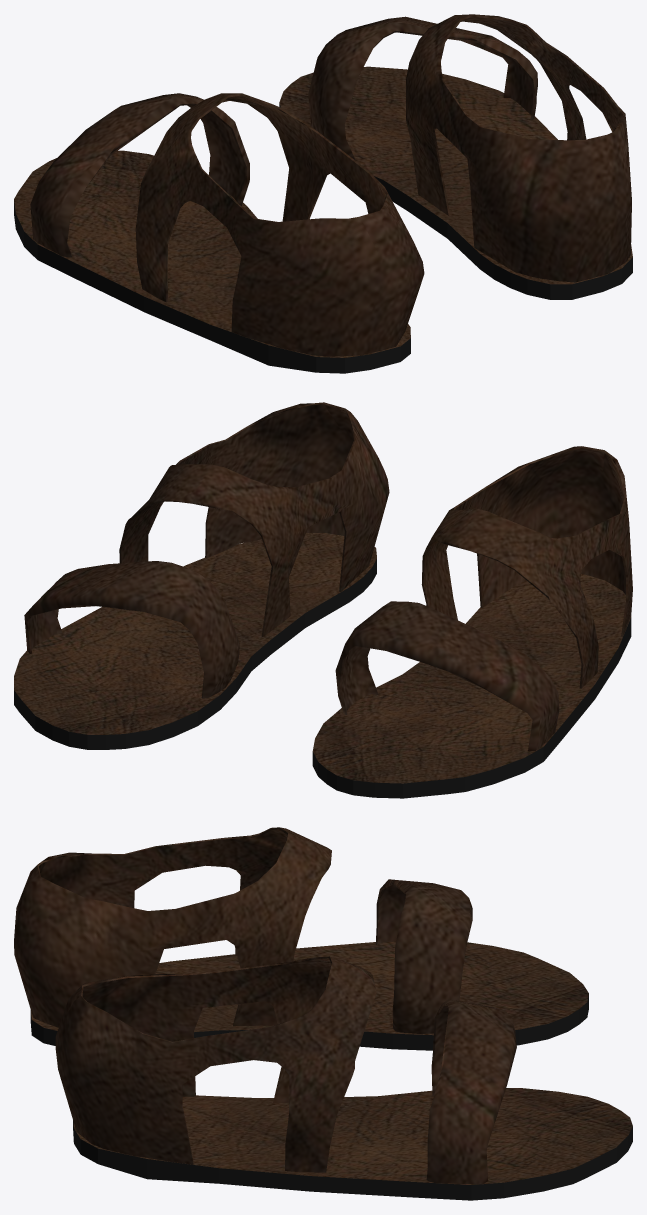
File: Sandals 2.FBX
3 renders of one model, top to bottom at view 1: azimuth 30°, elevation 25°; view 2: azimuth 150°, elevation 25°; view 3: azimuth 270°, elevation 25°, orthographic. The views are drawn at different scales.
Parts seen in each view (by area): view 1: left sandal, right sandal; view 2: right sandal, left sandal; view 3: right sandal, left sandal.
Boxes of the visible parts, left/top/right/bottom form: left sandal: left=14, top=93, right=424, bottom=373; right sandal: left=279, top=14, right=632, bottom=299; right sandal: left=14, top=402, right=389, bottom=749; left sandal: left=312, top=446, right=632, bottom=798; right sandal: left=55, top=956, right=632, bottom=1200; left sandal: left=14, top=827, right=588, bottom=1050.
Bounding box in the file's own units: 26.3 × 27.67 × 9.17.
Materials: 1 (1 with a texture image).
